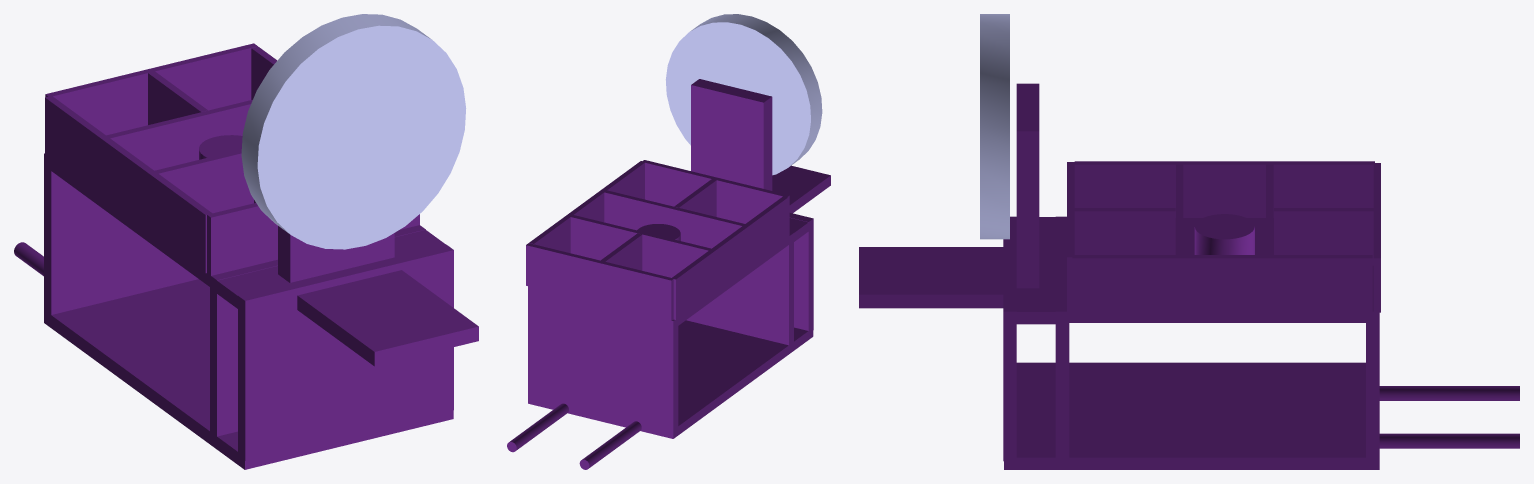
Rendered from whole.obj.
3 renders of one model, left to right at view 1: azimuth 30°, elevation 25°; view 2: azimuth 150°, elevation 25°; view 3: azimuth 270°, elevation 25°, orthographic. The views are drawn at different scales.
Bounding box in the file's own units: 0.305 × 0.5868 × 0.88.
